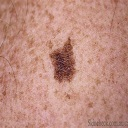Melanoma: (51, 39, 74, 81)
